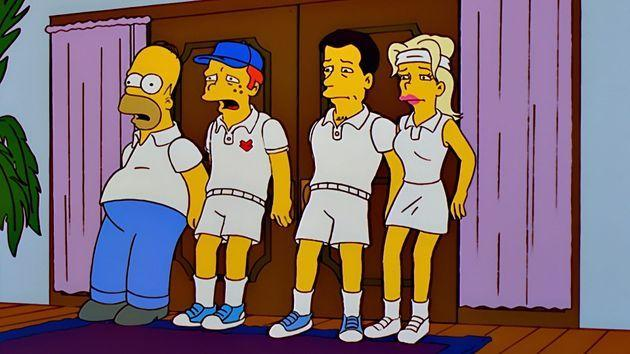Homer: (88, 40, 203, 330)
